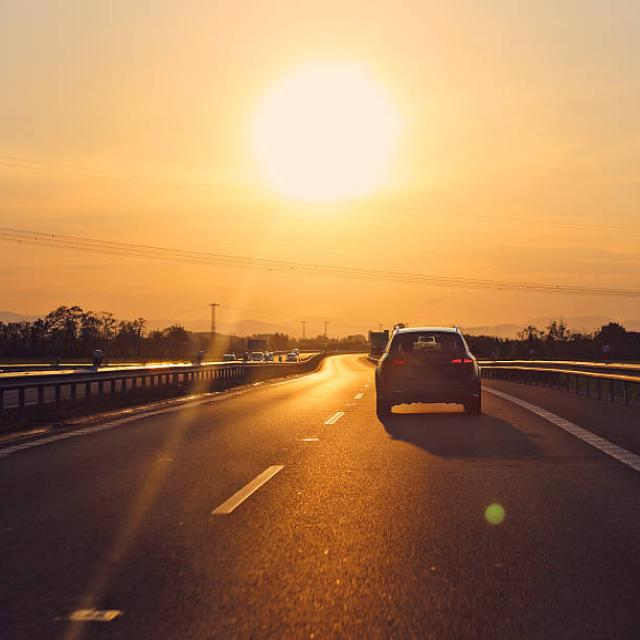sun: (233, 40, 419, 222)
